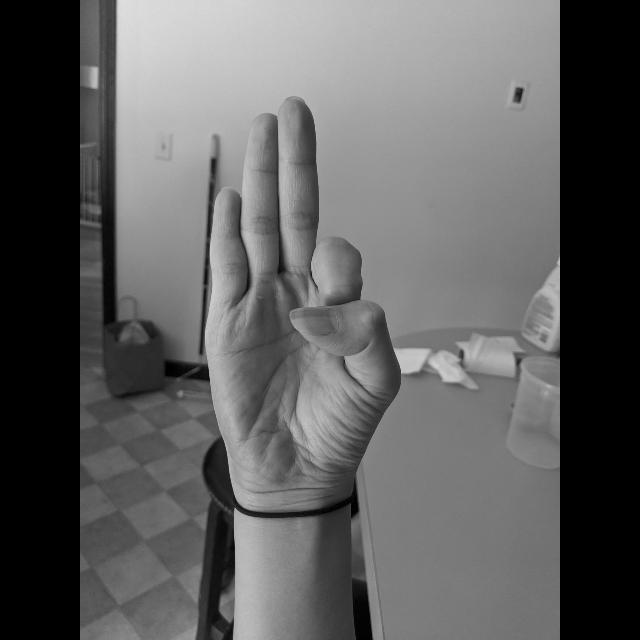F: (198, 91, 406, 511)
